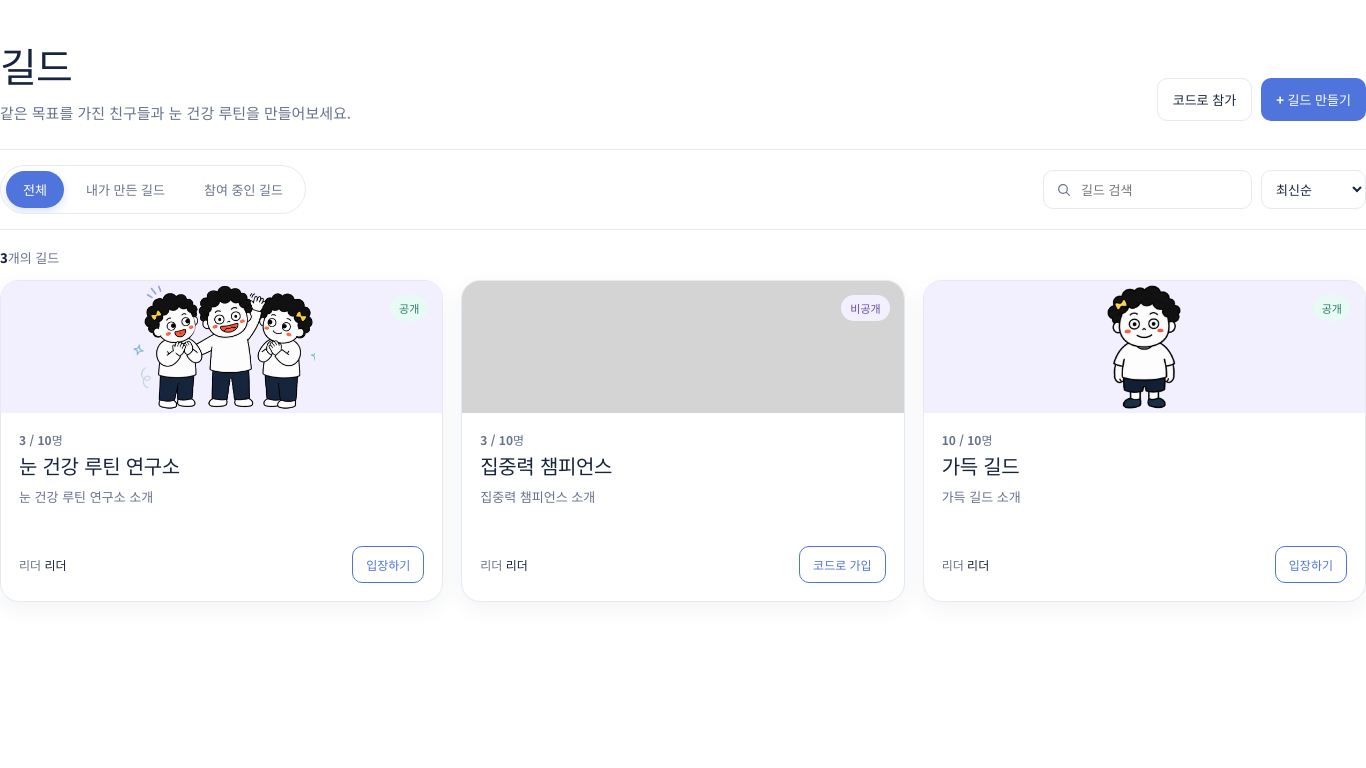
Test: CommunityPage › 생성 폼은 검증 후 createGroup API를 부른다
Click the button with test id "open-create-dialog".
click(1314, 100)  # box [1261,78,1365,121]
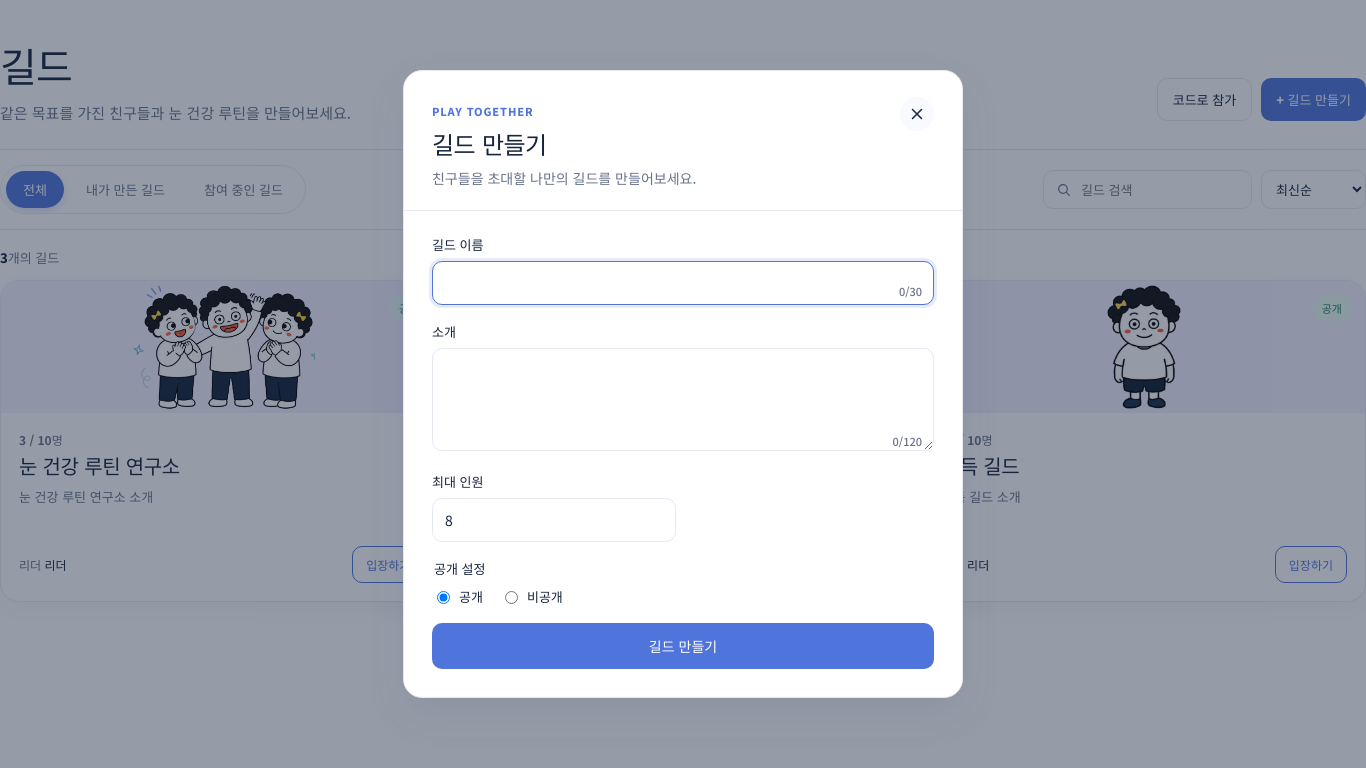
Submit the form with class "community-form", box [432,235,934,669]
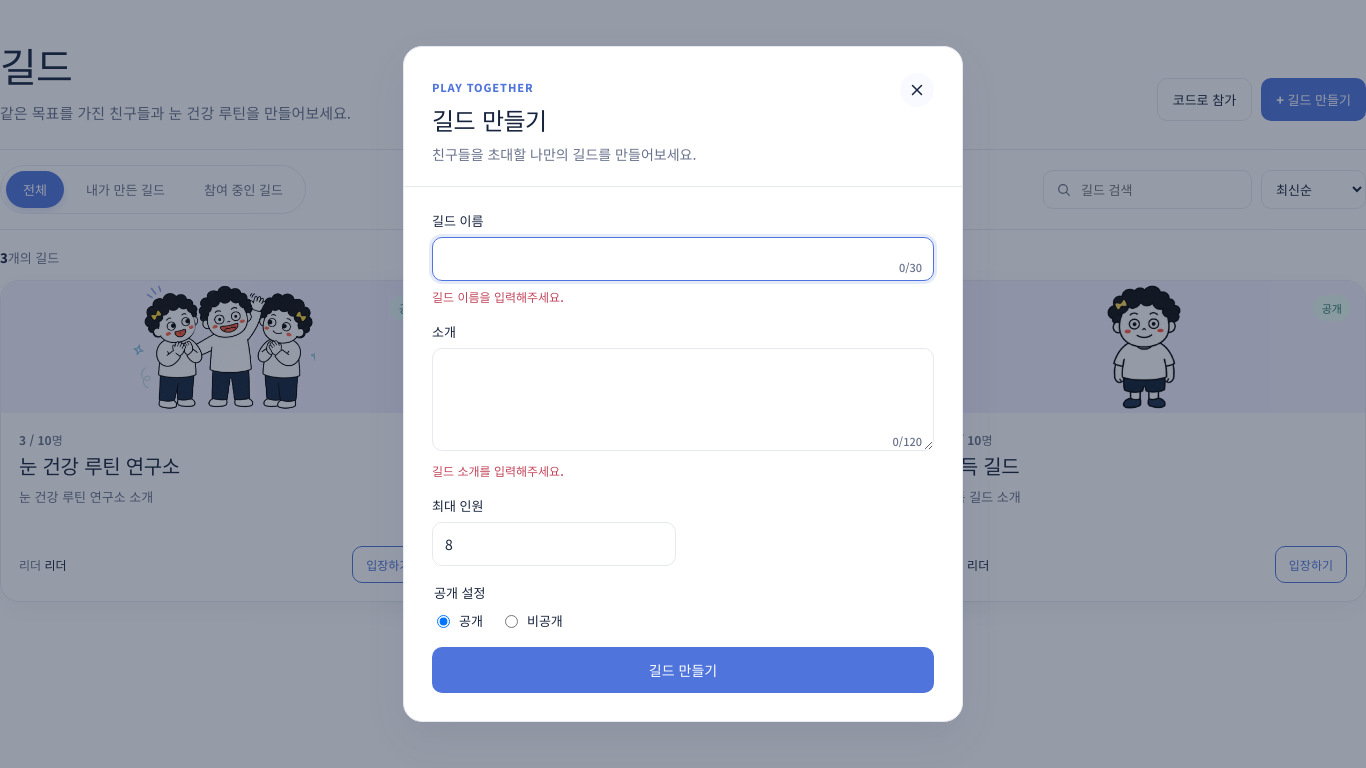
Check: the text "길드 이름을 입력해주세요." is shown, box [432,288,564,305]
Type "주말 눈 휴식 길드" into the field with test id "create-group-name".
click(683, 259); type("주말 눈 휴식 길드")  # box [432,237,934,281]
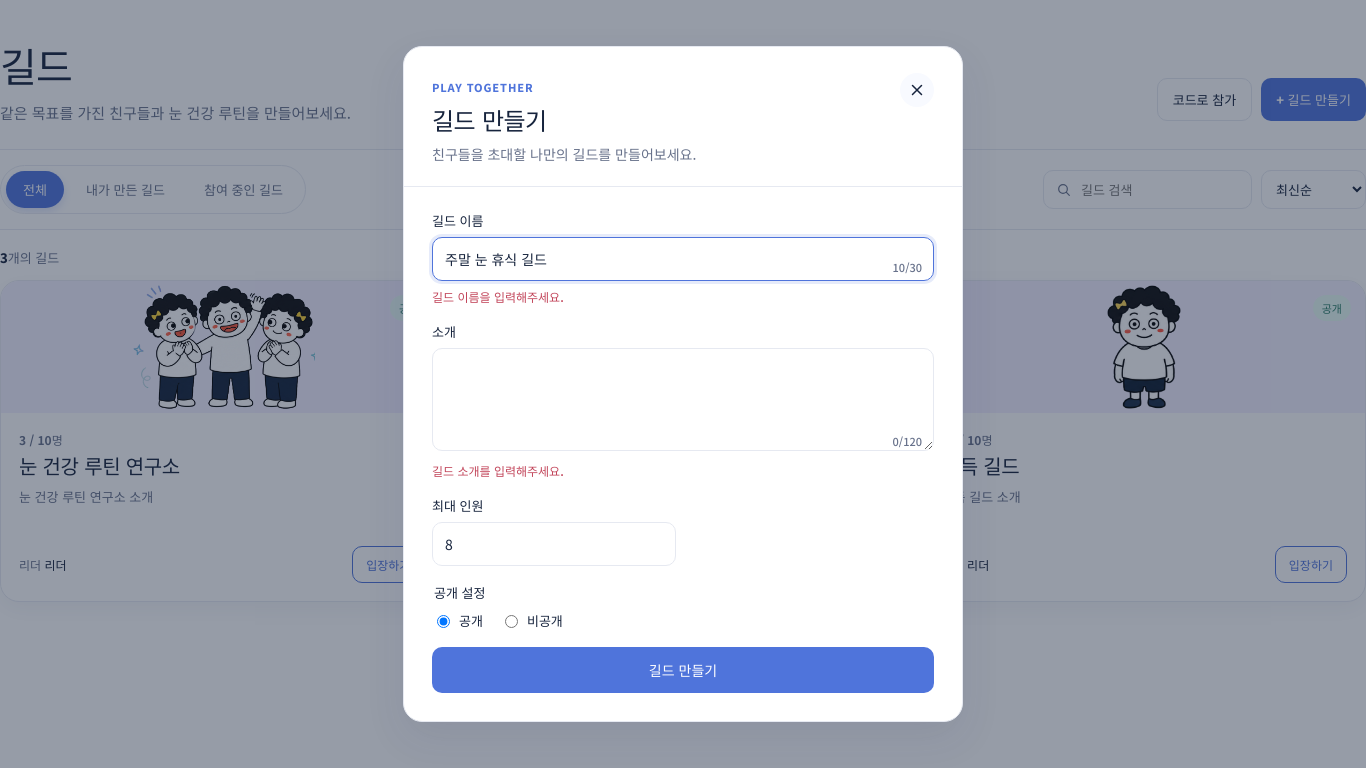
Type "주말마다 함께 눈 휴식 게임을 즐겨요." into the text box with test id "create-group-description".
click(683, 399); type("주말마다 함께 눈 휴식 게임을 즐겨요.")  # box [432,348,934,451]
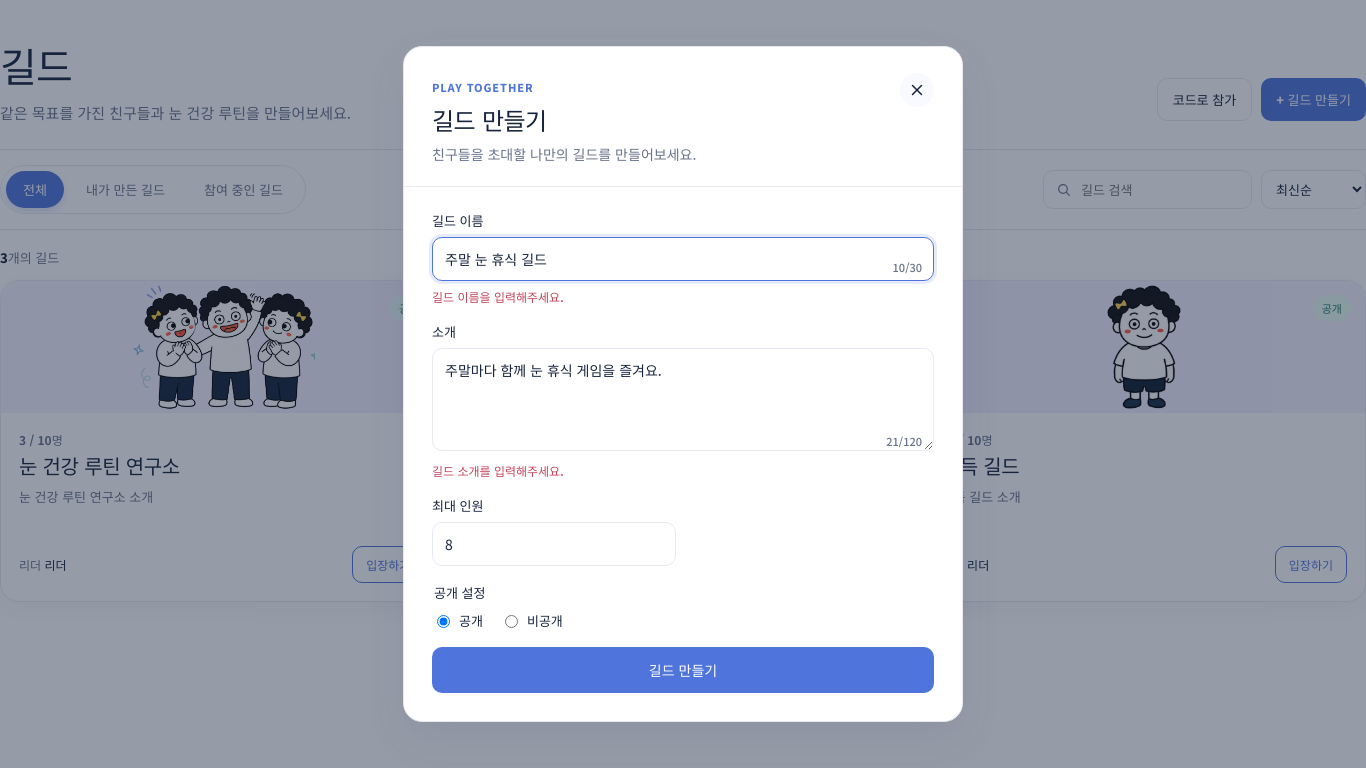
Replace the text in the number field with test id "create-group-capacity" with "12" at (554, 544), box [432,522,676,566]
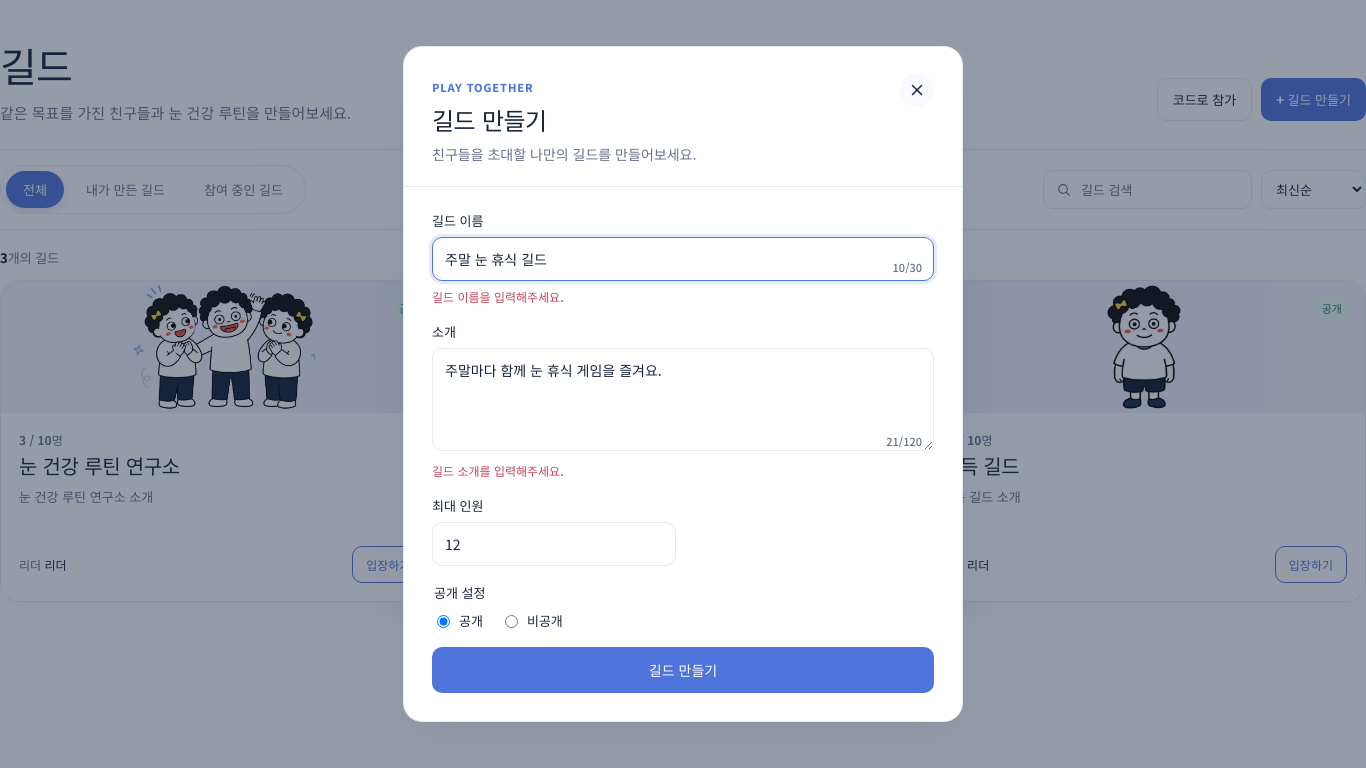
Submit the form with class "community-form", box [432,211,934,693]
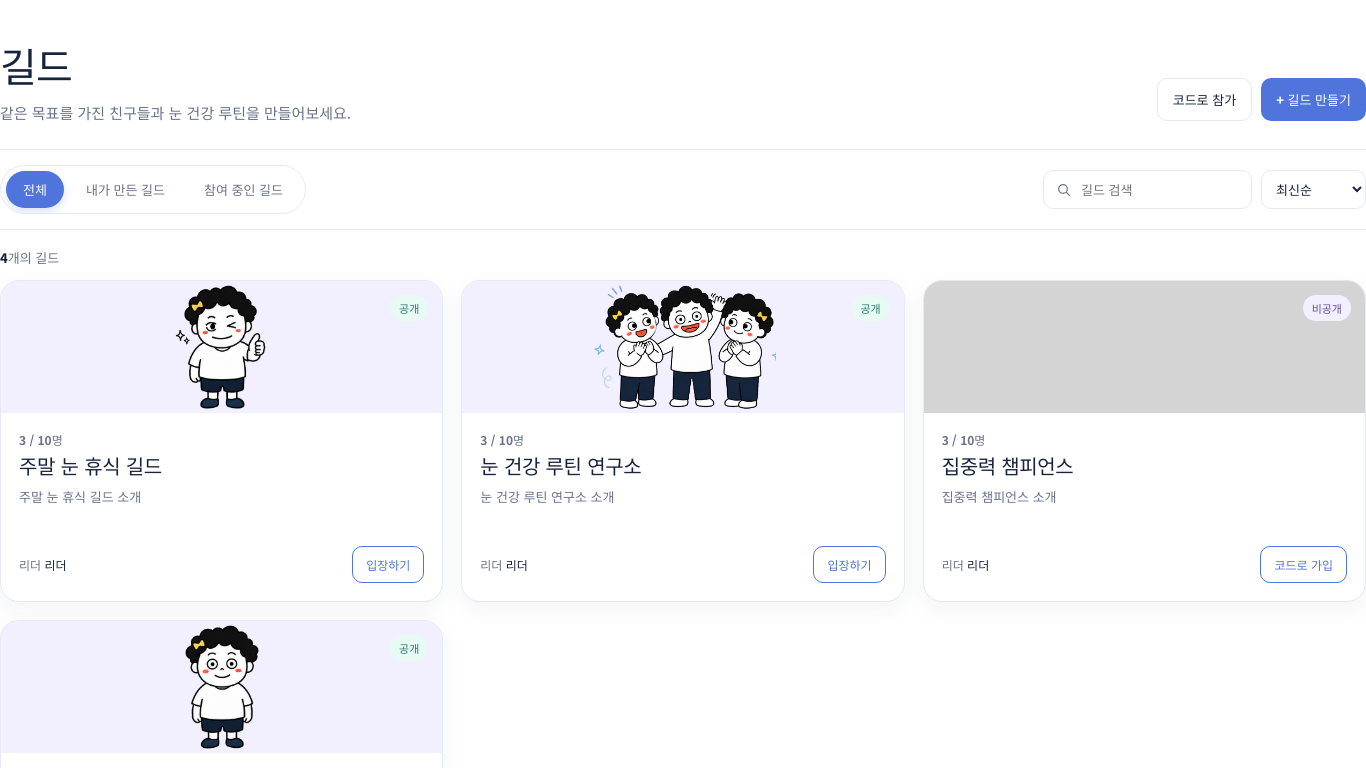
Check: the text "주말 눈 휴식 길드" is shown, box [19,458,162,478]
